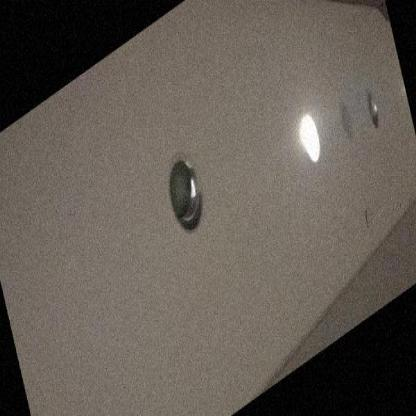light_off: (148, 120, 214, 254), (356, 60, 390, 150)
